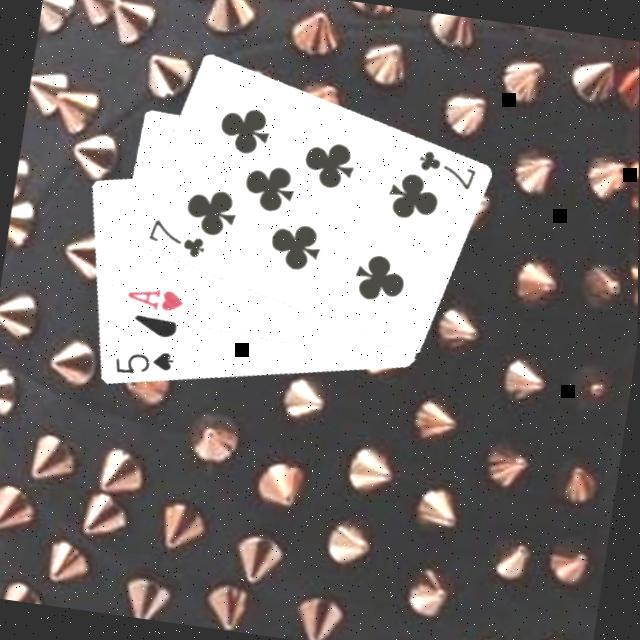5S: (108, 344, 176, 387)
7C: (410, 147, 479, 196), (140, 217, 209, 264)
AH: (120, 283, 186, 319)
